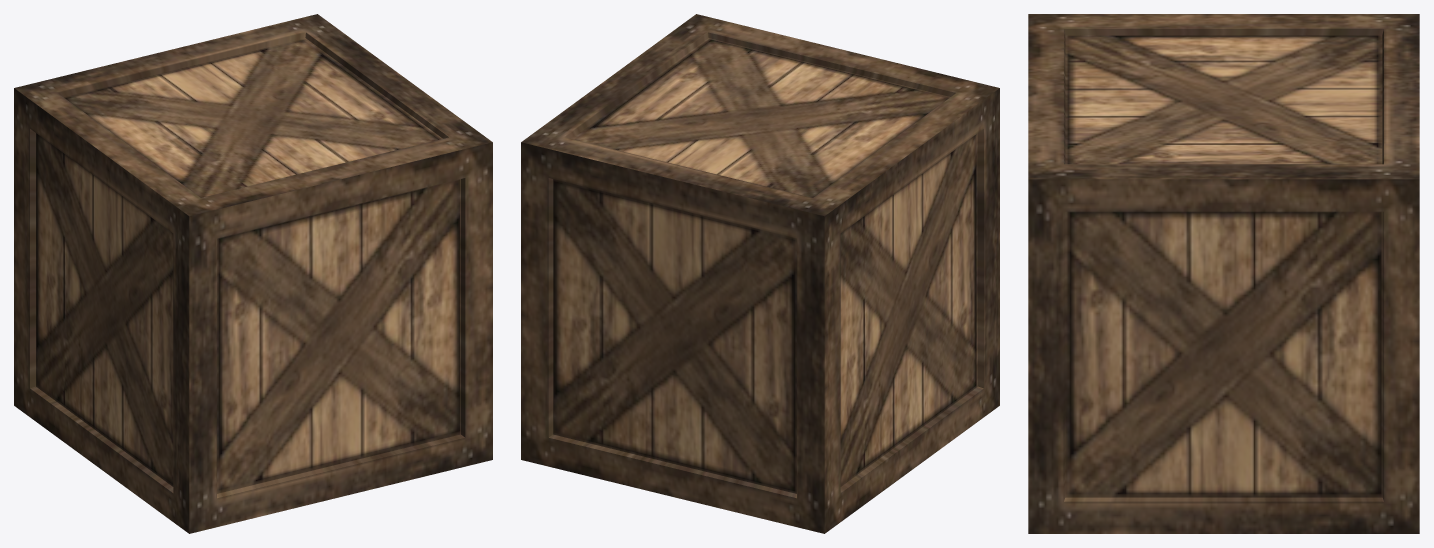
Rendered from modular-containers-and-barrells-pack-game-ready-cube-334.glb.
The picture shows the model from 3 angles, left to right: view 1: azimuth 30°, elevation 25°; view 2: azimuth 150°, elevation 25°; view 3: azimuth 270°, elevation 25°; orthographic projection. The views are drawn at different scales.
Visible parts, largest first — view 1: Cube_334; view 2: Cube_334; view 3: Cube_334.
Boxes of the visible parts, x1=… form: Cube_334: x1=14, y1=14, x2=492, y2=533; Cube_334: x1=521, y1=14, x2=999, y2=533; Cube_334: x1=1028, y1=14, x2=1419, y2=533.
Bounding box in the file's own units: 1 × 1 × 1.
1 material, 1 textured.
